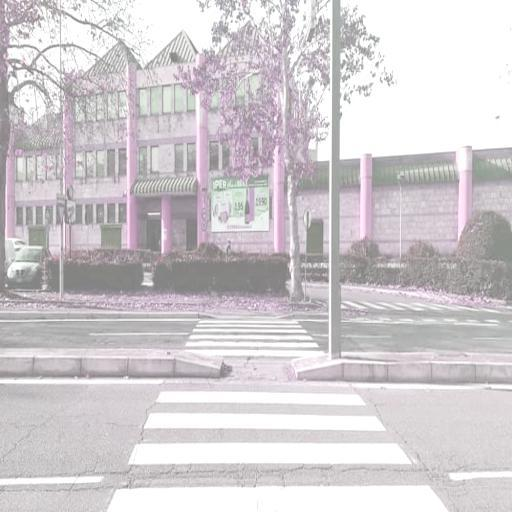crosswalk: (124, 406, 414, 474), (181, 334, 321, 350)
